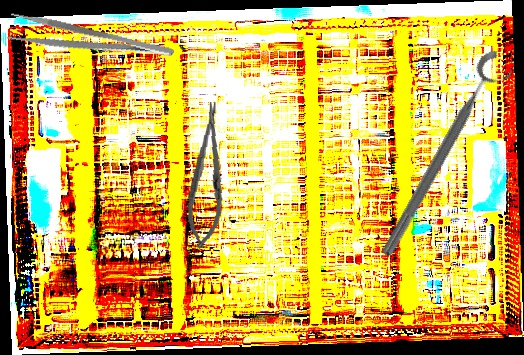Dressing Forceps: (5, 9, 176, 75)
Fixation Ring: (374, 46, 520, 267)
Needle Holder: (183, 100, 232, 251)
